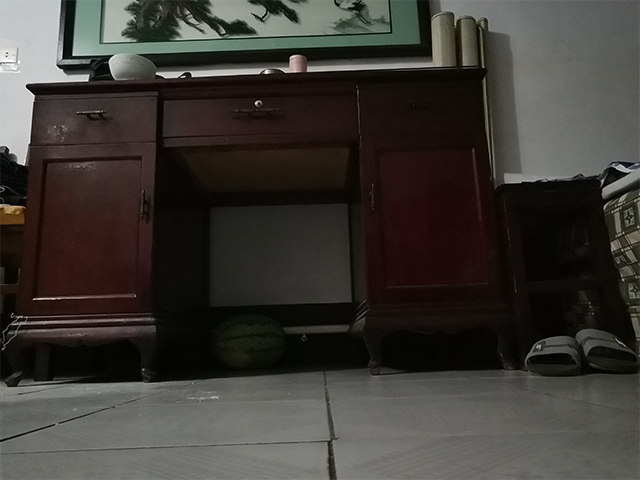cabinet: (1, 64, 523, 389)
slippers: (574, 328, 634, 371), (527, 332, 582, 378)
stool: (495, 179, 630, 364)
